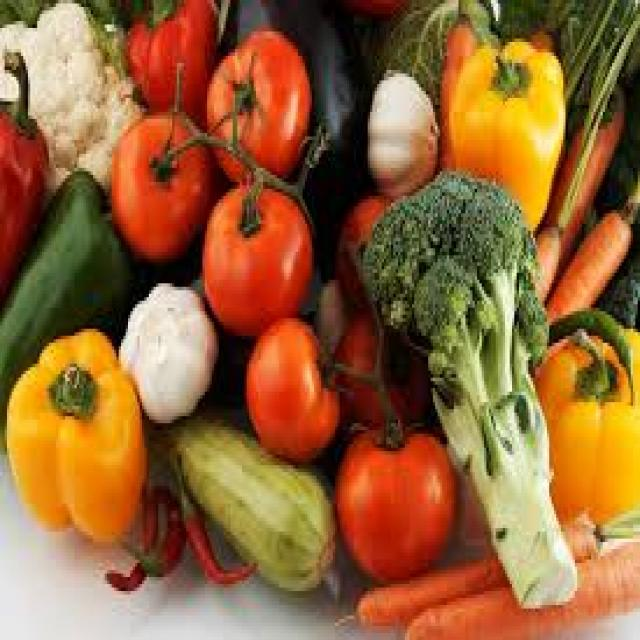organic waste: (356, 157, 575, 608), (0, 160, 130, 444), (142, 402, 335, 588), (218, 0, 363, 241), (526, 4, 638, 298), (0, 0, 144, 206), (5, 329, 144, 542), (342, 514, 596, 623), (400, 532, 638, 636), (449, 35, 563, 231), (533, 322, 638, 521), (333, 416, 456, 581), (547, 35, 638, 227), (200, 182, 310, 332), (363, 0, 498, 122), (205, 28, 309, 182), (114, 280, 219, 420), (540, 178, 638, 326), (110, 108, 210, 252), (577, 94, 638, 326), (242, 314, 337, 462), (0, 49, 47, 315), (168, 444, 256, 584), (333, 308, 430, 427), (125, 0, 216, 115), (363, 66, 435, 192), (437, 0, 486, 171), (547, 308, 633, 395), (332, 192, 396, 301), (119, 486, 179, 574), (102, 497, 154, 588), (314, 273, 352, 353), (516, 0, 574, 45)
